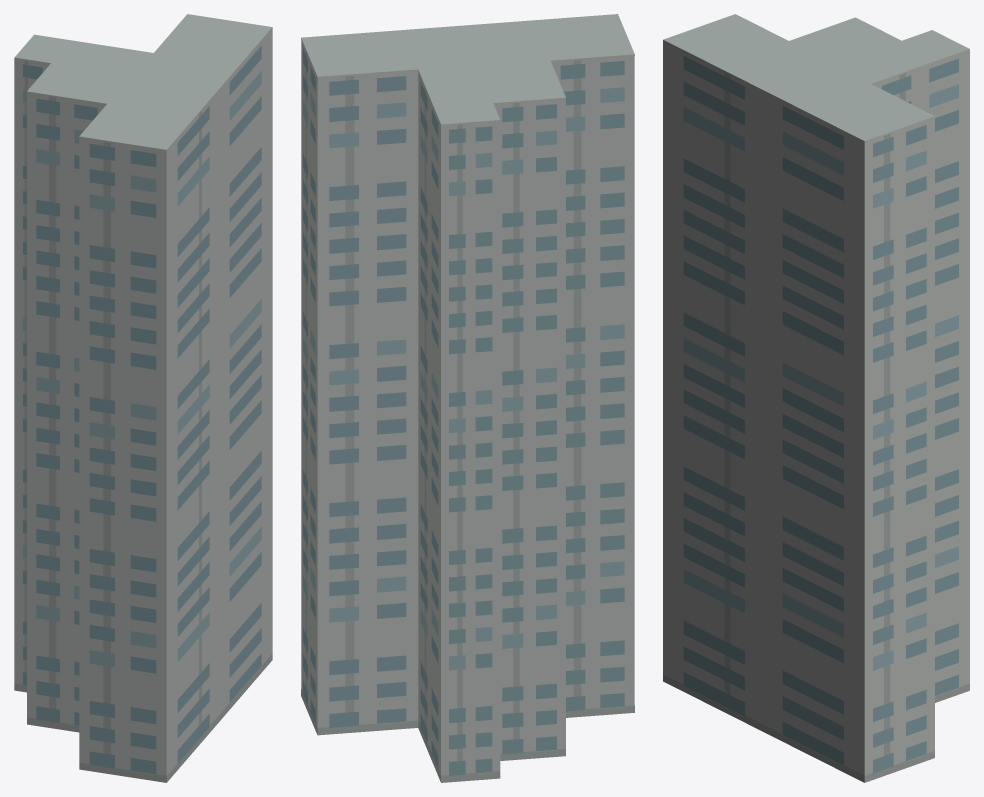
File: residential-fc27267f-958e-4f89-86ac-c1dce696dc67.glb
3 renders of one model, left to right at view 1: azimuth 30°, elevation 25°; view 2: azimuth 150°, elevation 25°; view 3: azimuth 270°, elevation 25°, orthographic. The views are drawn at different scales.
Visible parts, largest first — view 1: residential-fc27267f-958e-4f89-86ac-c1dce696dc67.tmp; view 2: residential-fc27267f-958e-4f89-86ac-c1dce696dc67.tmp; view 3: residential-fc27267f-958e-4f89-86ac-c1dce696dc67.tmp.
Boxes of the visible parts, x1=… form: residential-fc27267f-958e-4f89-86ac-c1dce696dc67.tmp: x1=14, y1=14, x2=272, y2=782; residential-fc27267f-958e-4f89-86ac-c1dce696dc67.tmp: x1=301, y1=14, x2=634, y2=782; residential-fc27267f-958e-4f89-86ac-c1dce696dc67.tmp: x1=663, y1=14, x2=969, y2=782.
Size of the model in its own units: 39.95 by 94 by 40.73.
